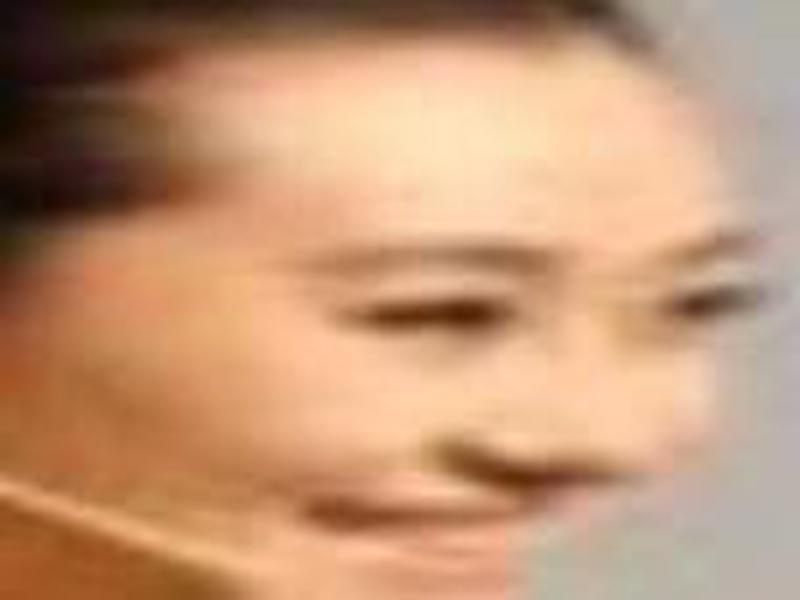without_mask: (34, 21, 778, 600)
